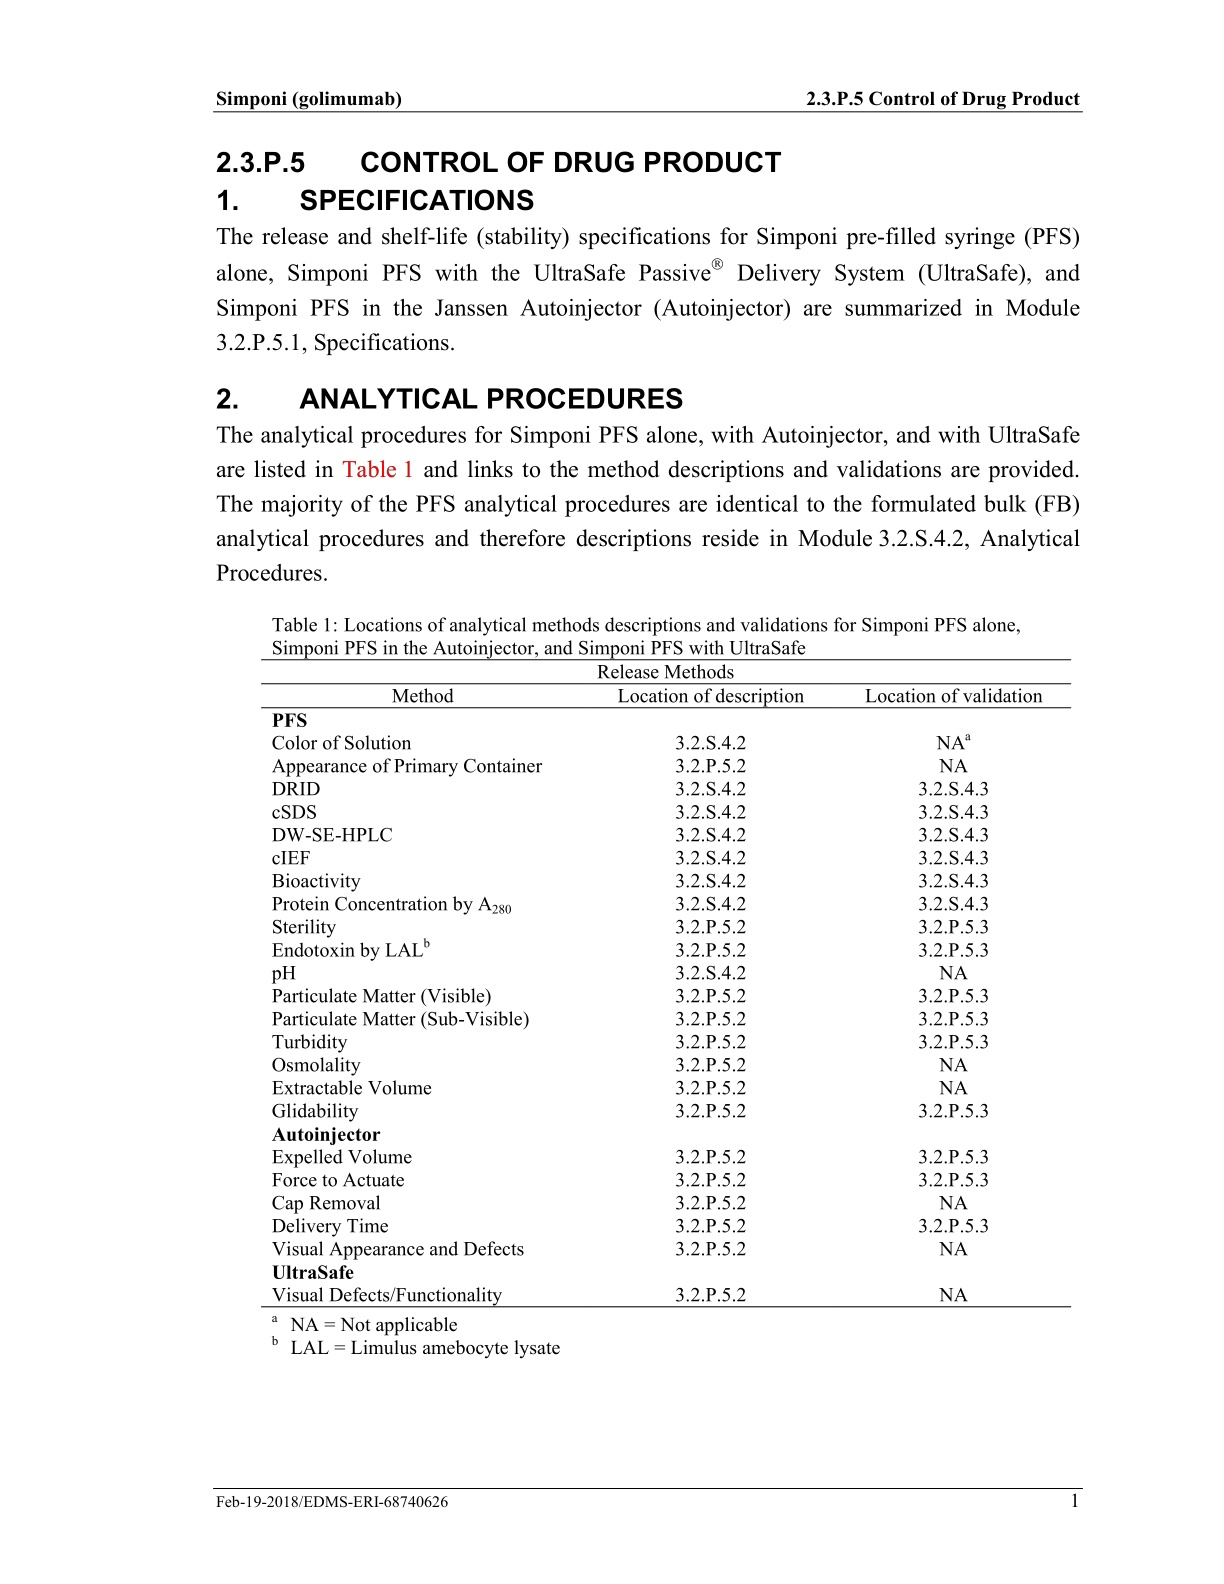partial_lined_merged_cells: (260, 660, 1071, 1308)
